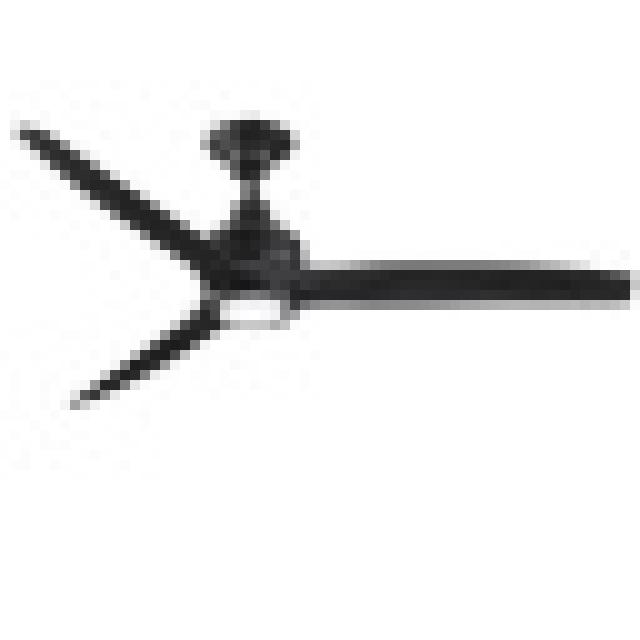Bulb: (24, 105, 640, 395)
